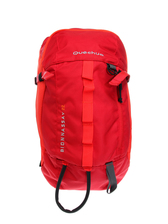bag: (36, 27, 133, 215)
